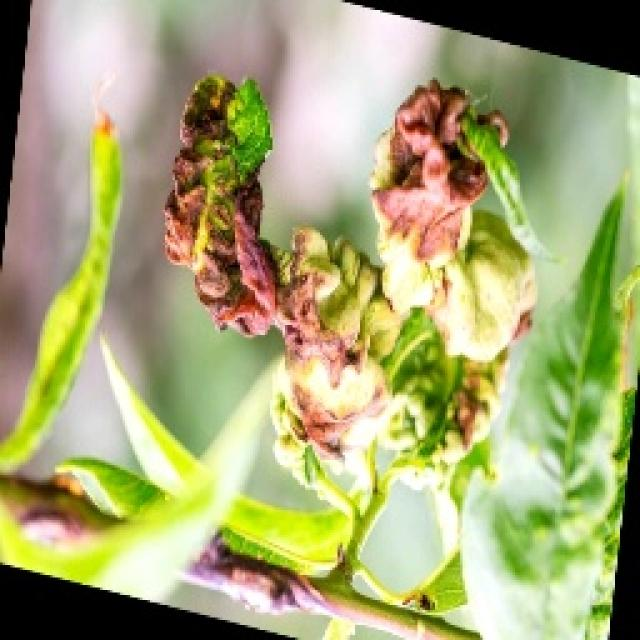peach_leaf_curl: (162, 40, 501, 347)
